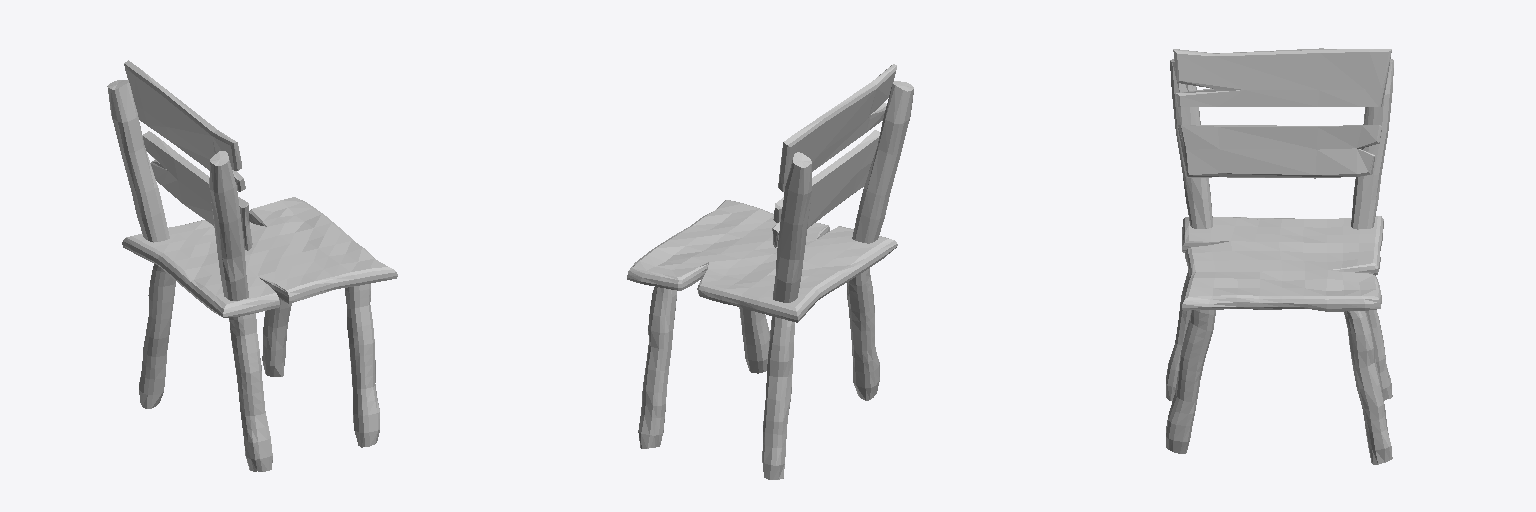
File: chair_new_low.obj
The picture shows the model from 3 angles: view 1: azimuth 30°, elevation 25°; view 2: azimuth 150°, elevation 25°; view 3: azimuth 270°, elevation 25°; orthographic projection.
Parts seen in each view (by area): view 1: Seat_low, BackRest_low, BackSticks_low, Legs_Right_low, Legs_Right_low.001, Legs_Left_low.001, Legs_Left_low; view 2: Seat_low, BackRest_low, BackSticks_low, Legs_Left_low.001, Legs_Left_low, Legs_Right_low, Legs_Right_low.001; view 3: BackRest_low, Seat_low, BackSticks_low, Legs_Right_low.001, Legs_Left_low, Legs_Right_low, Legs_Left_low.001.
Boxes of the visible parts, x1,y1,x2,y2 form: Seat_low: [122, 197, 397, 317]; BackRest_low: [124, 60, 252, 250]; BackSticks_low: [107, 80, 248, 300]; Legs_Right_low: [229, 313, 272, 471]; Legs_Right_low.001: [345, 284, 379, 447]; Legs_Left_low.001: [139, 264, 175, 408]; Legs_Left_low: [262, 299, 291, 376]; Seat_low: [627, 200, 897, 322]; BackRest_low: [772, 64, 896, 247]; BackSticks_low: [773, 81, 913, 302]; Legs_Left_low.001: [762, 316, 794, 479]; Legs_Left_low: [638, 287, 676, 448]; Legs_Right_low: [847, 268, 879, 400]; Legs_Right_low.001: [739, 307, 769, 373]; BackRest_low: [1173, 48, 1391, 178]; Seat_low: [1182, 216, 1383, 311]; BackSticks_low: [1170, 59, 1393, 229]; Legs_Right_low.001: [1166, 310, 1215, 453]; Legs_Left_low: [1344, 311, 1392, 464]; Legs_Right_low: [1166, 270, 1190, 400]; Legs_Left_low.001: [1366, 310, 1392, 400].
Size of the model in its own units: 3.27 by 5.69 by 3.42.